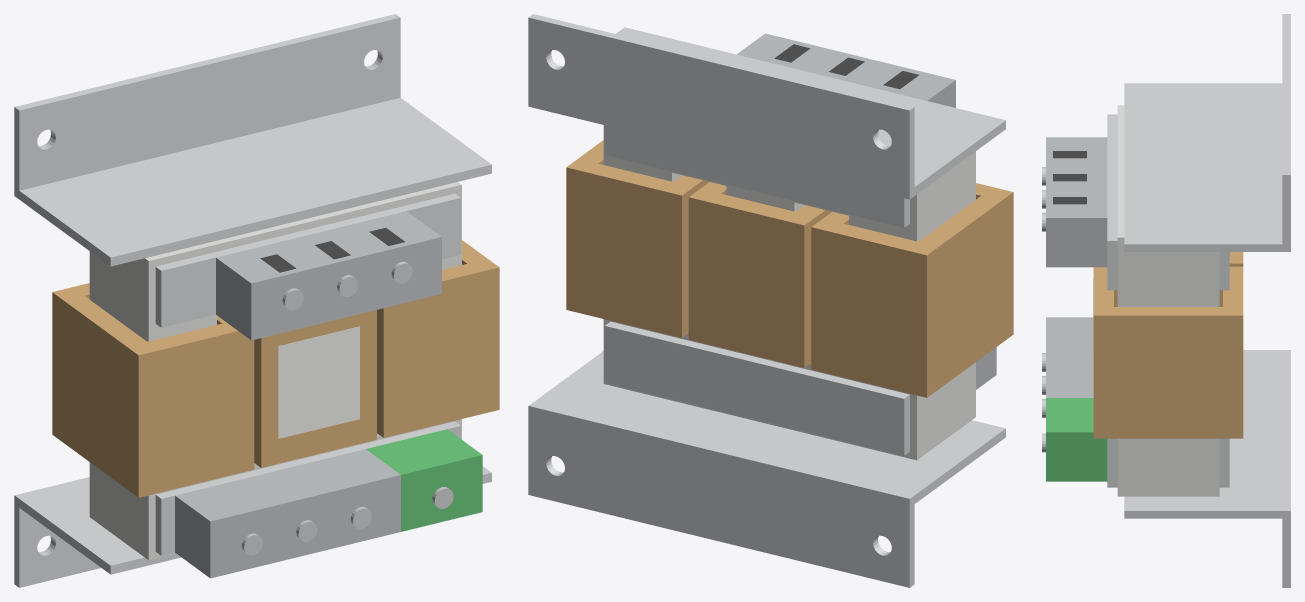
The model's file is reactor-line-3p-4a.glb.
The picture shows the model from 3 angles, left to right: view 1: azimuth 30°, elevation 25°; view 2: azimuth 150°, elevation 25°; view 3: azimuth 270°, elevation 25°; orthographic projection. The views are drawn at different scales.
Visible parts, largest first — view 1: body; view 2: body; view 3: body.
Boxes of the visible parts, x1,y1,x2,y2 form: body: (14,14,499,587); body: (528,14,1013,587); body: (1046,14,1290,587).
Size of what is drawn, in the model's own units: 0.112 by 0.134 by 0.0732.
